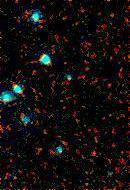star: (79, 135, 109, 165)
